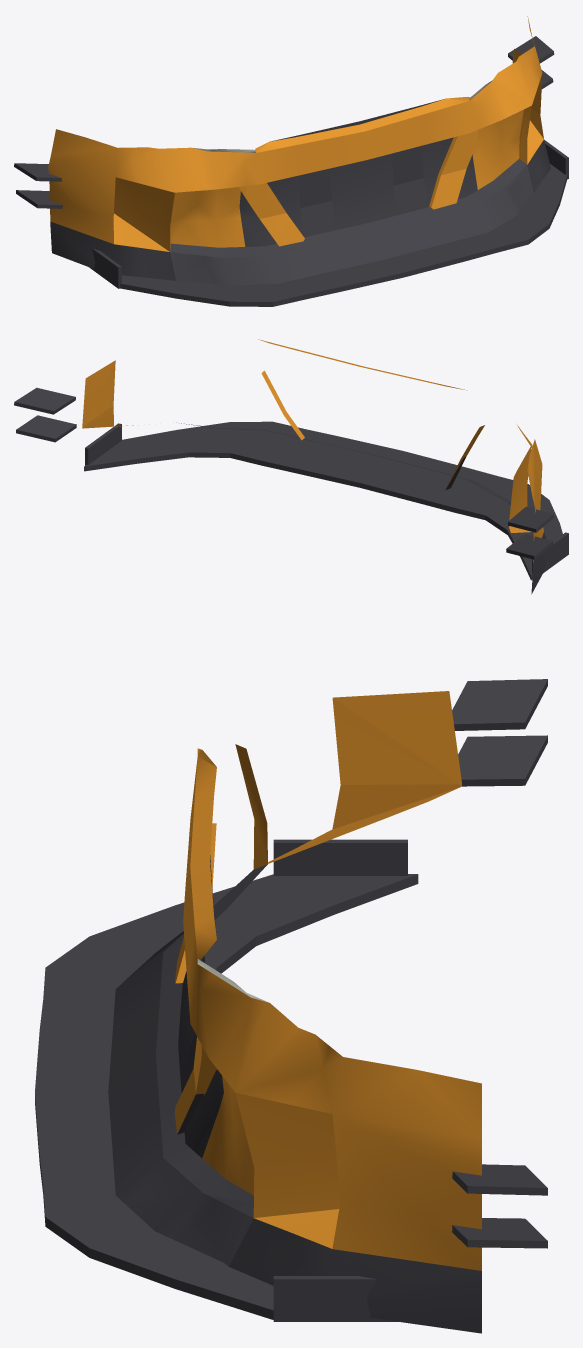
Rendered from protoHatch_frontBumper_kurogane.glb.
The picture shows the model from 3 angles, top to bottom: view 1: azimuth 30°, elevation 25°; view 2: azimuth 150°, elevation 25°; view 3: azimuth 270°, elevation 25°; orthographic projection. The views are drawn at different scales.
Visible parts, largest first — view 1: frontBumper_kurogane; view 2: frontBumper_kurogane; view 3: frontBumper_kurogane.
Boxes of the visible parts, x1,y1,x2,y2 form: frontBumper_kurogane: [14, 16, 568, 306]; frontBumper_kurogane: [14, 339, 568, 594]; frontBumper_kurogane: [35, 679, 547, 1333].
Size of the model in its own units: 1.8 by 0.4088 by 0.7647.
